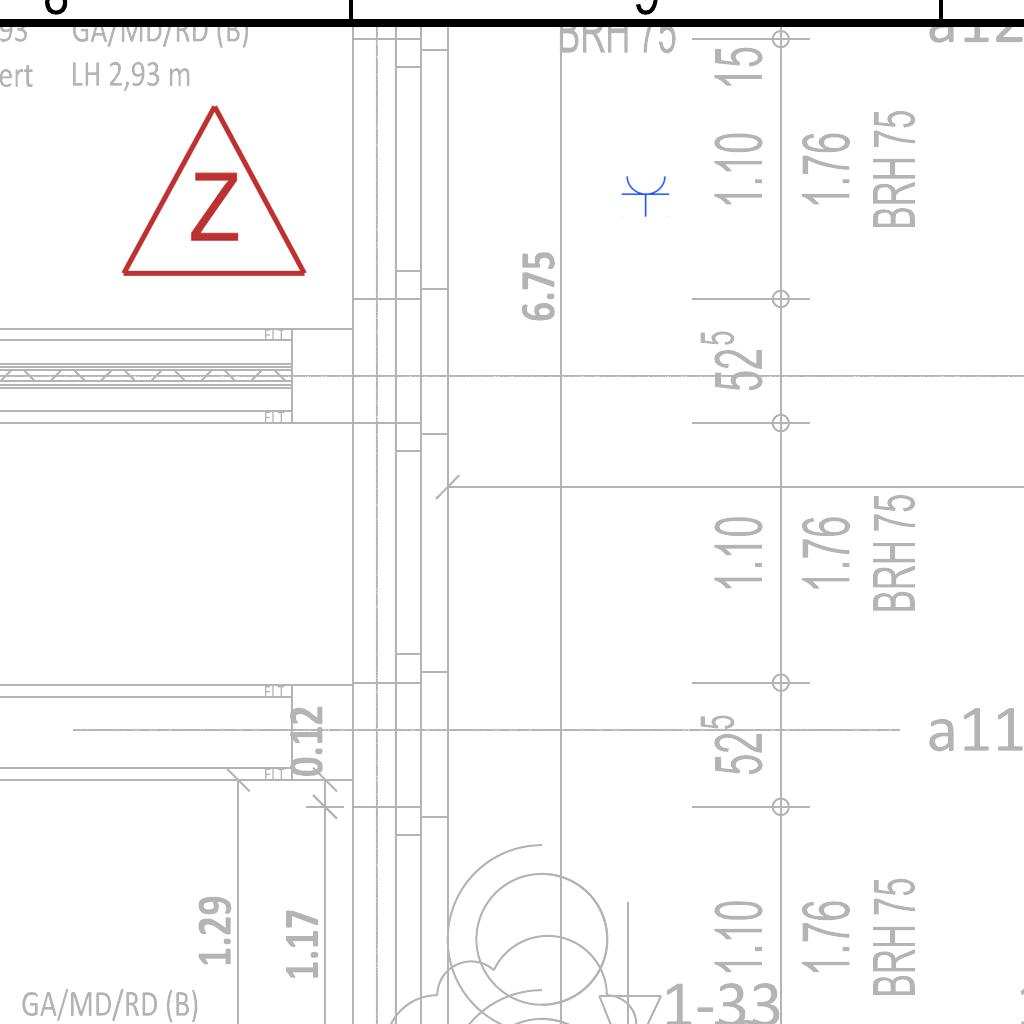Schukosteckdose_einfach: (621, 174, 671, 217)
Zimmersignalleuchte: (114, 91, 310, 291)
